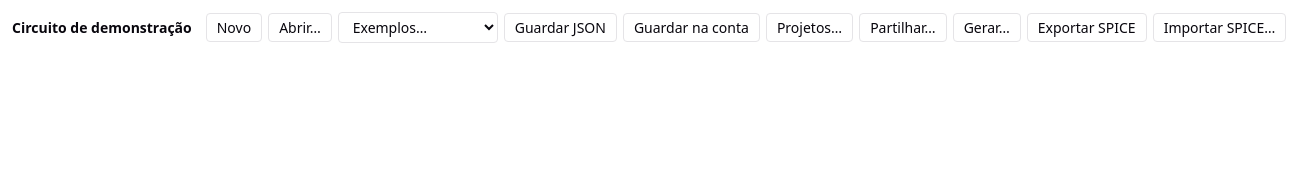
ProjectMenu — projetos na conta (F2-09) › Guardar na conta cria o projeto e liga-o ao editor; depois grava com a versão
Expected: the button "Partilhar…" is disabled, [859,13,947,42]
Step 1. Click the button "Guardar na conta" → (691, 28), box [623,13,760,42]
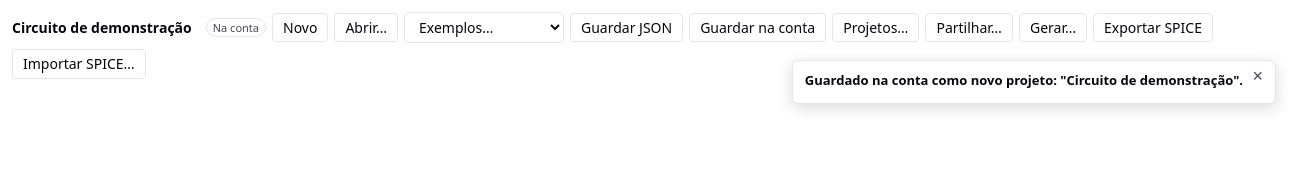
Now the text "novo projeto" is shown, box [805,71,1243,89]
Now the text "Na conta" is shown, box [206,18,266,37]
Now the button "Partilhar…" is enabled, box [925,13,1013,42]
Step 2. Click the button "Guardar na conta" → (758, 28), box [689,13,826,42]
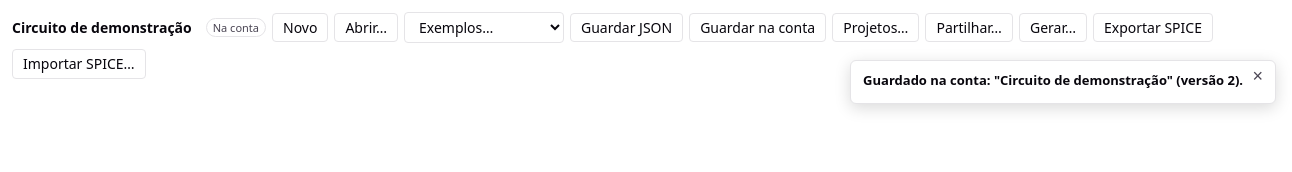
Now the text "Guardado na conta: \"Circuito de demonstração\" (versão 2)." is shown, box [863,71,1243,89]
